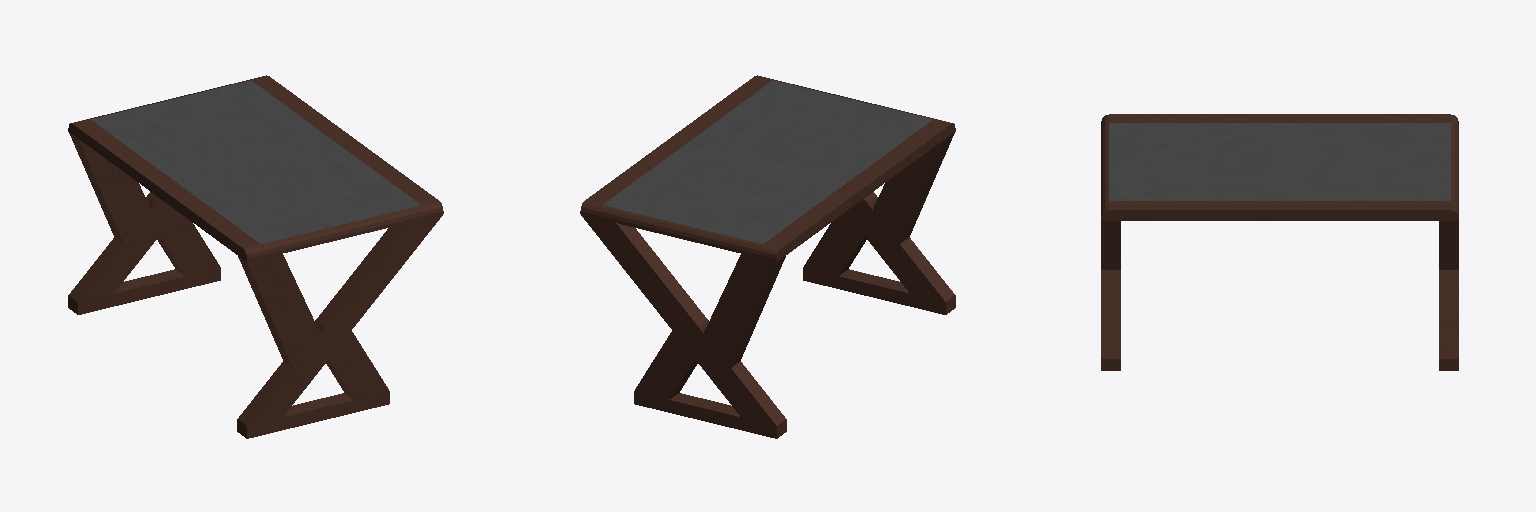
3 renders of one model, left to right at view 1: azimuth 30°, elevation 25°; view 2: azimuth 150°, elevation 25°; view 3: azimuth 270°, elevation 25°, orthographic.
Visible parts, largest first — view 1: Cube.005, Cube.006; view 2: Cube.005, Cube.006; view 3: Cube.006, Cube.005.
Part boxes in pixels (left/top/right/bottom): Cube.005: left=68, top=75, right=443, bottom=438; Cube.006: left=90, top=80, right=420, bottom=243; Cube.005: left=580, top=75, right=955, bottom=438; Cube.006: left=603, top=80, right=933, bottom=243; Cube.006: left=1109, top=123, right=1450, bottom=200; Cube.005: left=1101, top=114, right=1458, bottom=370.
Bounding box in the file's own units: 2 × 1.82 × 3.15.
1 materials, 1 textured.